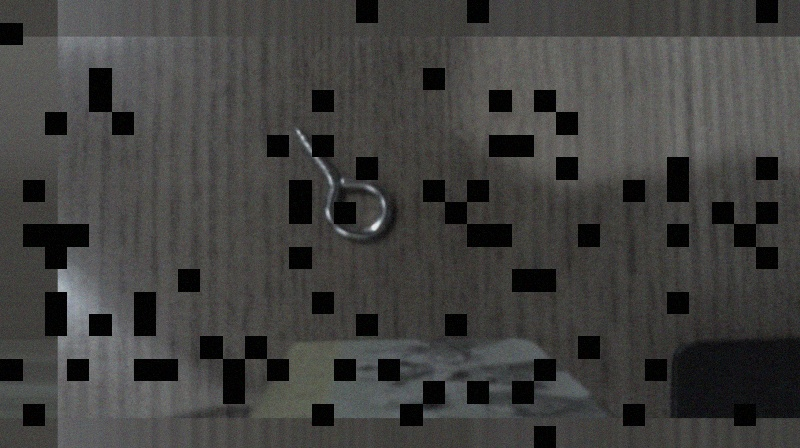O001: (285, 120, 398, 244)
